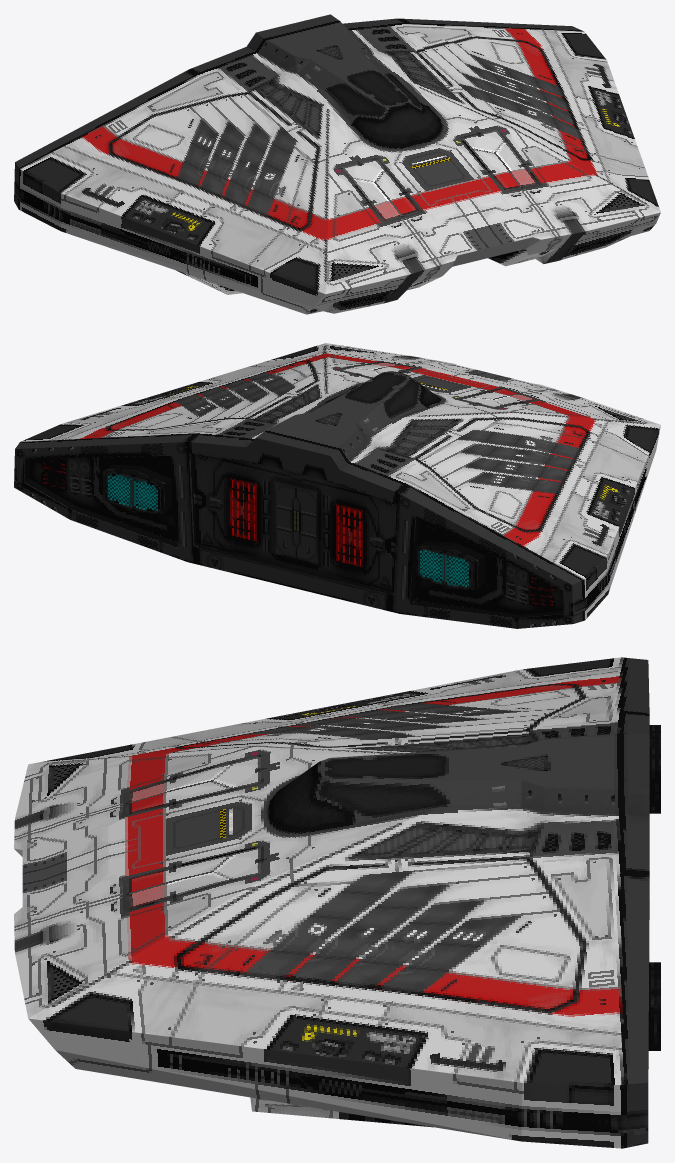
Rendered from Sidewinder.gltf.
3 views of the same model, one above another, from view 1: azimuth 30°, elevation 25°; view 2: azimuth 150°, elevation 25°; view 3: azimuth 270°, elevation 25° (orthographic). The views are drawn at different scales.
Visible parts, largest first — view 1: GEO_Hull; view 2: GEO_Hull; view 3: GEO_Hull.
Part boxes in pixels (<box>): GEO_Hull: <box>14,14,660,314</box>; GEO_Hull: <box>14,343,660,628</box>; GEO_Hull: <box>14,657,660,1148</box>.
Size of the model in its own units: 21.21 by 5.14 by 13.51.
1 material, 1 textured.
